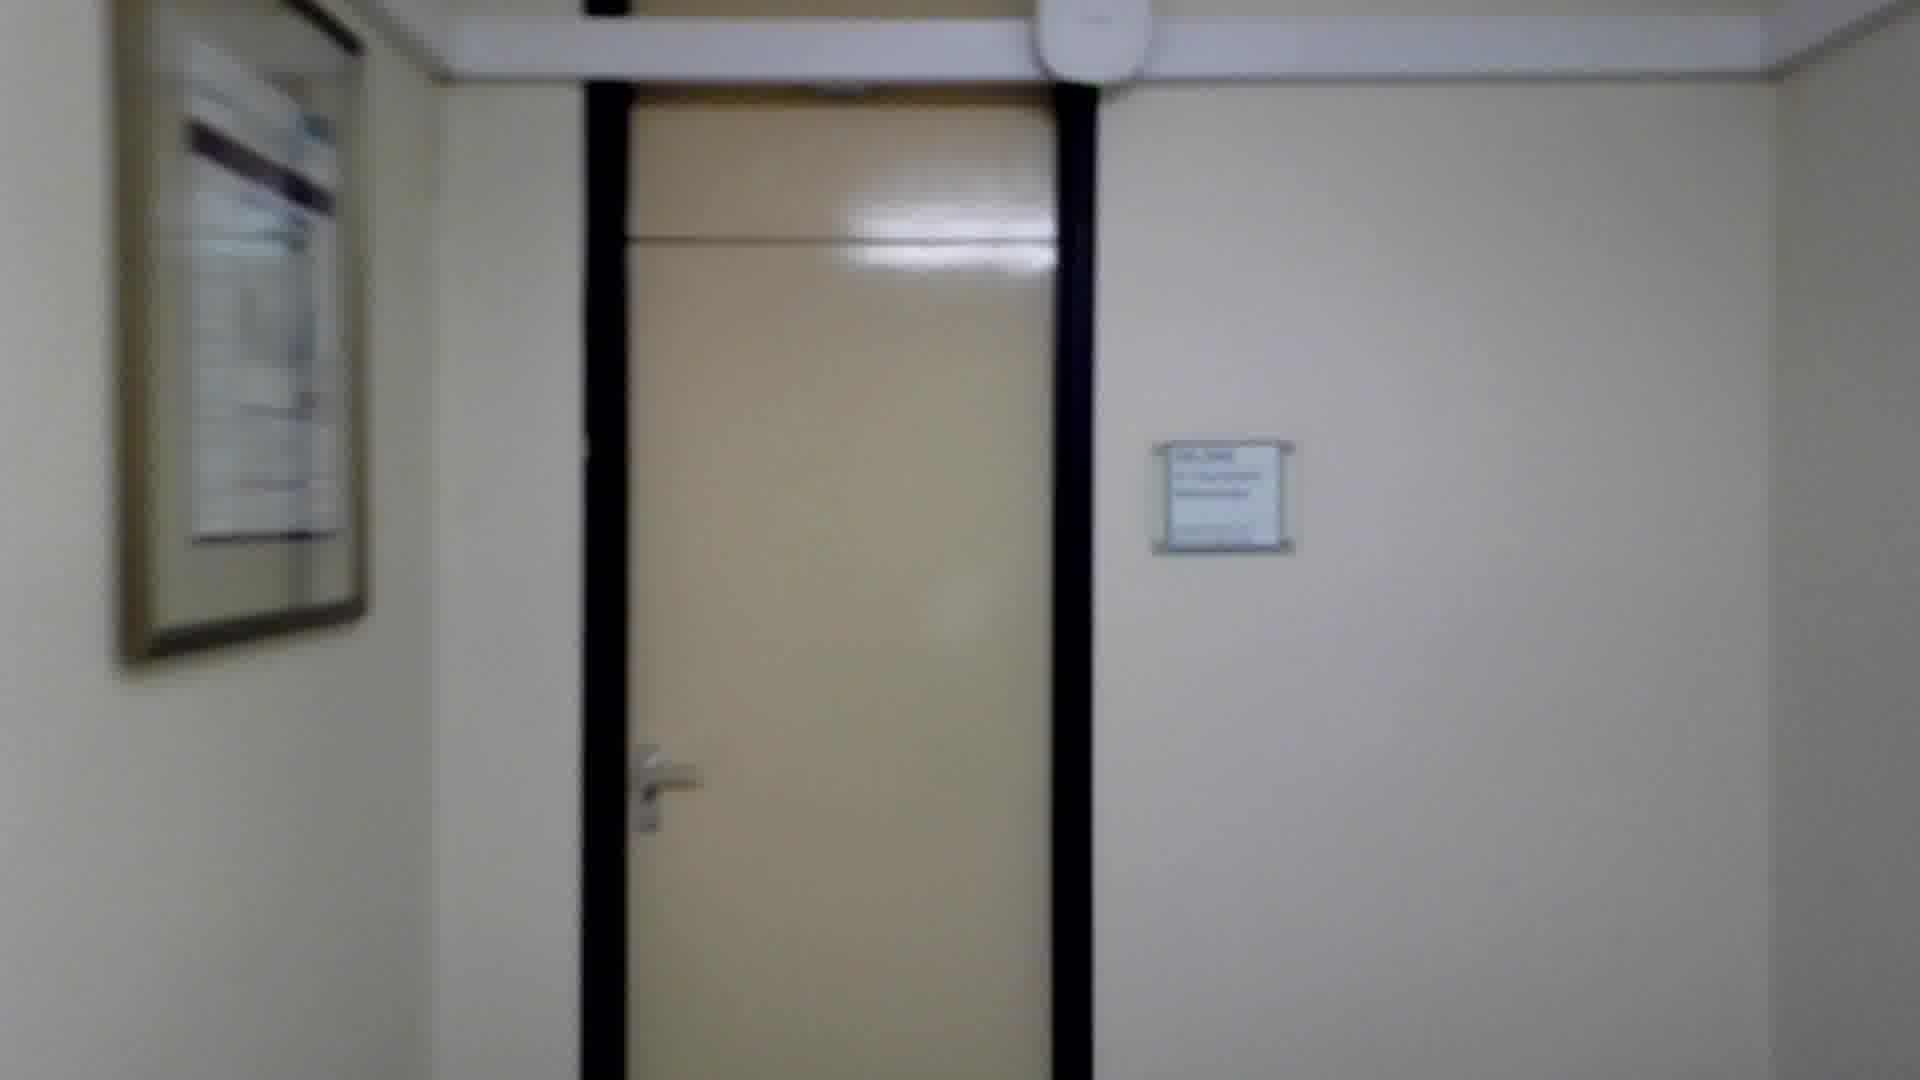Door: (537, 211, 1121, 1080)
